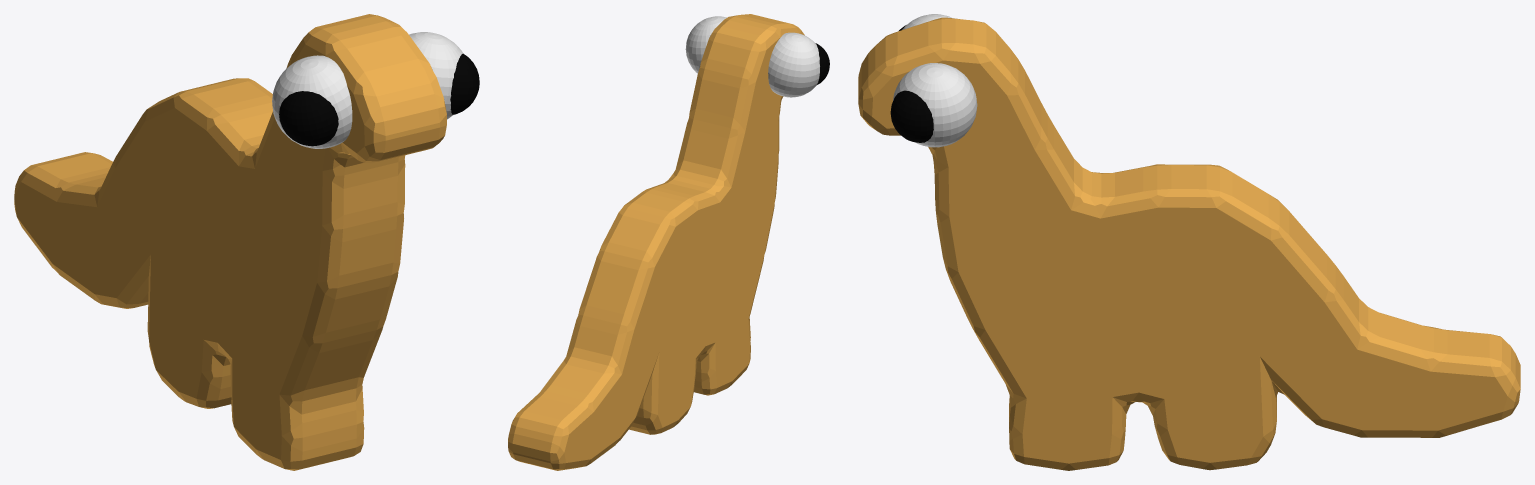
The model's file is dino_nuggie_v1.glb.
3 renders of one model, left to right at view 1: azimuth 30°, elevation 25°; view 2: azimuth 150°, elevation 25°; view 3: azimuth 270°, elevation 25°, orthographic. The views are drawn at different scales.
Visible parts, largest first — view 1: Plane, Sphere.002, Sphere.003, Sphere.001, Sphere.004; view 2: Plane, Sphere.002, Sphere.001; view 3: Plane, Sphere.001, Sphere.004.
Part boxes in pixels (x1,y1,x2,y2): Plane: (14,14,446,470); Sphere.002: (272,55,352,148); Sphere.003: (279,91,338,146); Sphere.001: (409,32,463,119); Sphere.004: (450,53,479,114); Plane: (508,14,804,470); Sphere.002: (768,32,819,97); Sphere.001: (685,16,726,73); Plane: (858,17,1520,470); Sphere.001: (893,63,977,147); Sphere.004: (890,90,933,142).
Size of the model in its own units: 0.4972 by 1.16 by 1.64.
